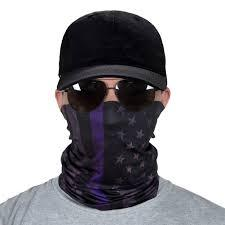cap: (55, 5, 173, 95)
scarf-kerchief: (52, 98, 167, 208)
sunglasses: (64, 75, 164, 115)
